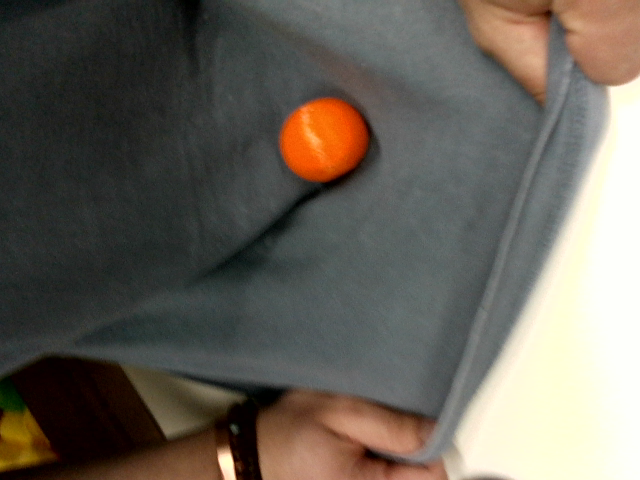orange: (266, 84, 380, 195)
